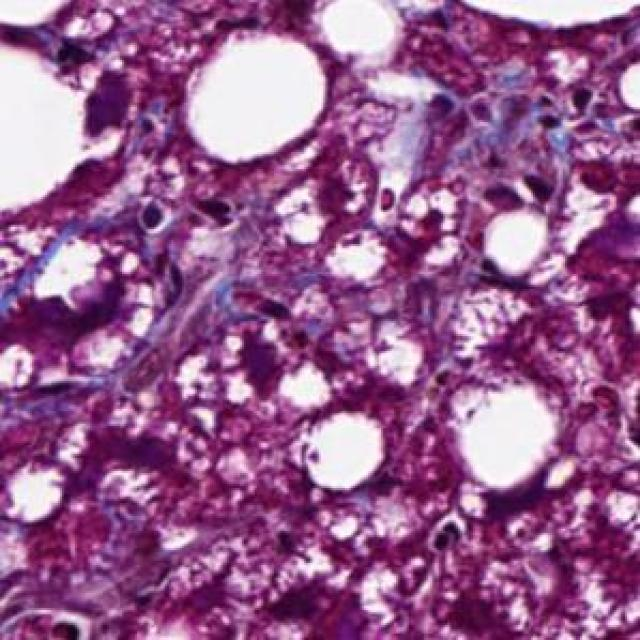inflammation: (129, 180, 261, 272), (21, 274, 130, 353)
